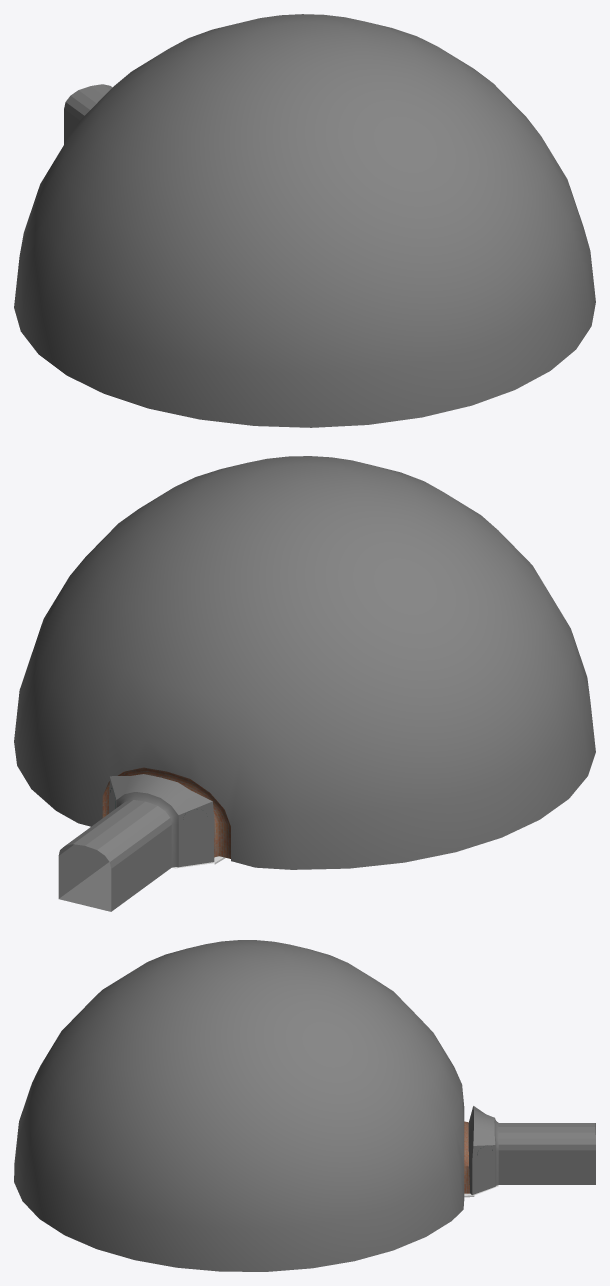
The model's file is Tutorial_01.fbx.
The picture shows the model from 3 angles, top to bottom: view 1: azimuth 30°, elevation 25°; view 2: azimuth 150°, elevation 25°; view 3: azimuth 270°, elevation 25°; orthographic projection. The views are drawn at different scales.
Parts seen in each view (by area): view 1: Sphere001, Object042; view 2: Sphere001, Object042, Object041, Object044; view 3: Sphere001, Object042, Object041.
Part boxes in pixels (x1,y1,x2,y2): Sphere001: (14,14,595,427); Object042: (64,84,112,144); Sphere001: (14,456,595,869); Object042: (58,800,171,911); Object041: (109,774,214,867); Object044: (102,767,230,858); Sphere001: (14,940,464,1271); Object042: (498,1123,595,1184); Object041: (468,1106,498,1194).
Bounding box in the file's own units: 29.21 × 14.77 × 36.5.
Materials: 5 (3 with a texture image).
